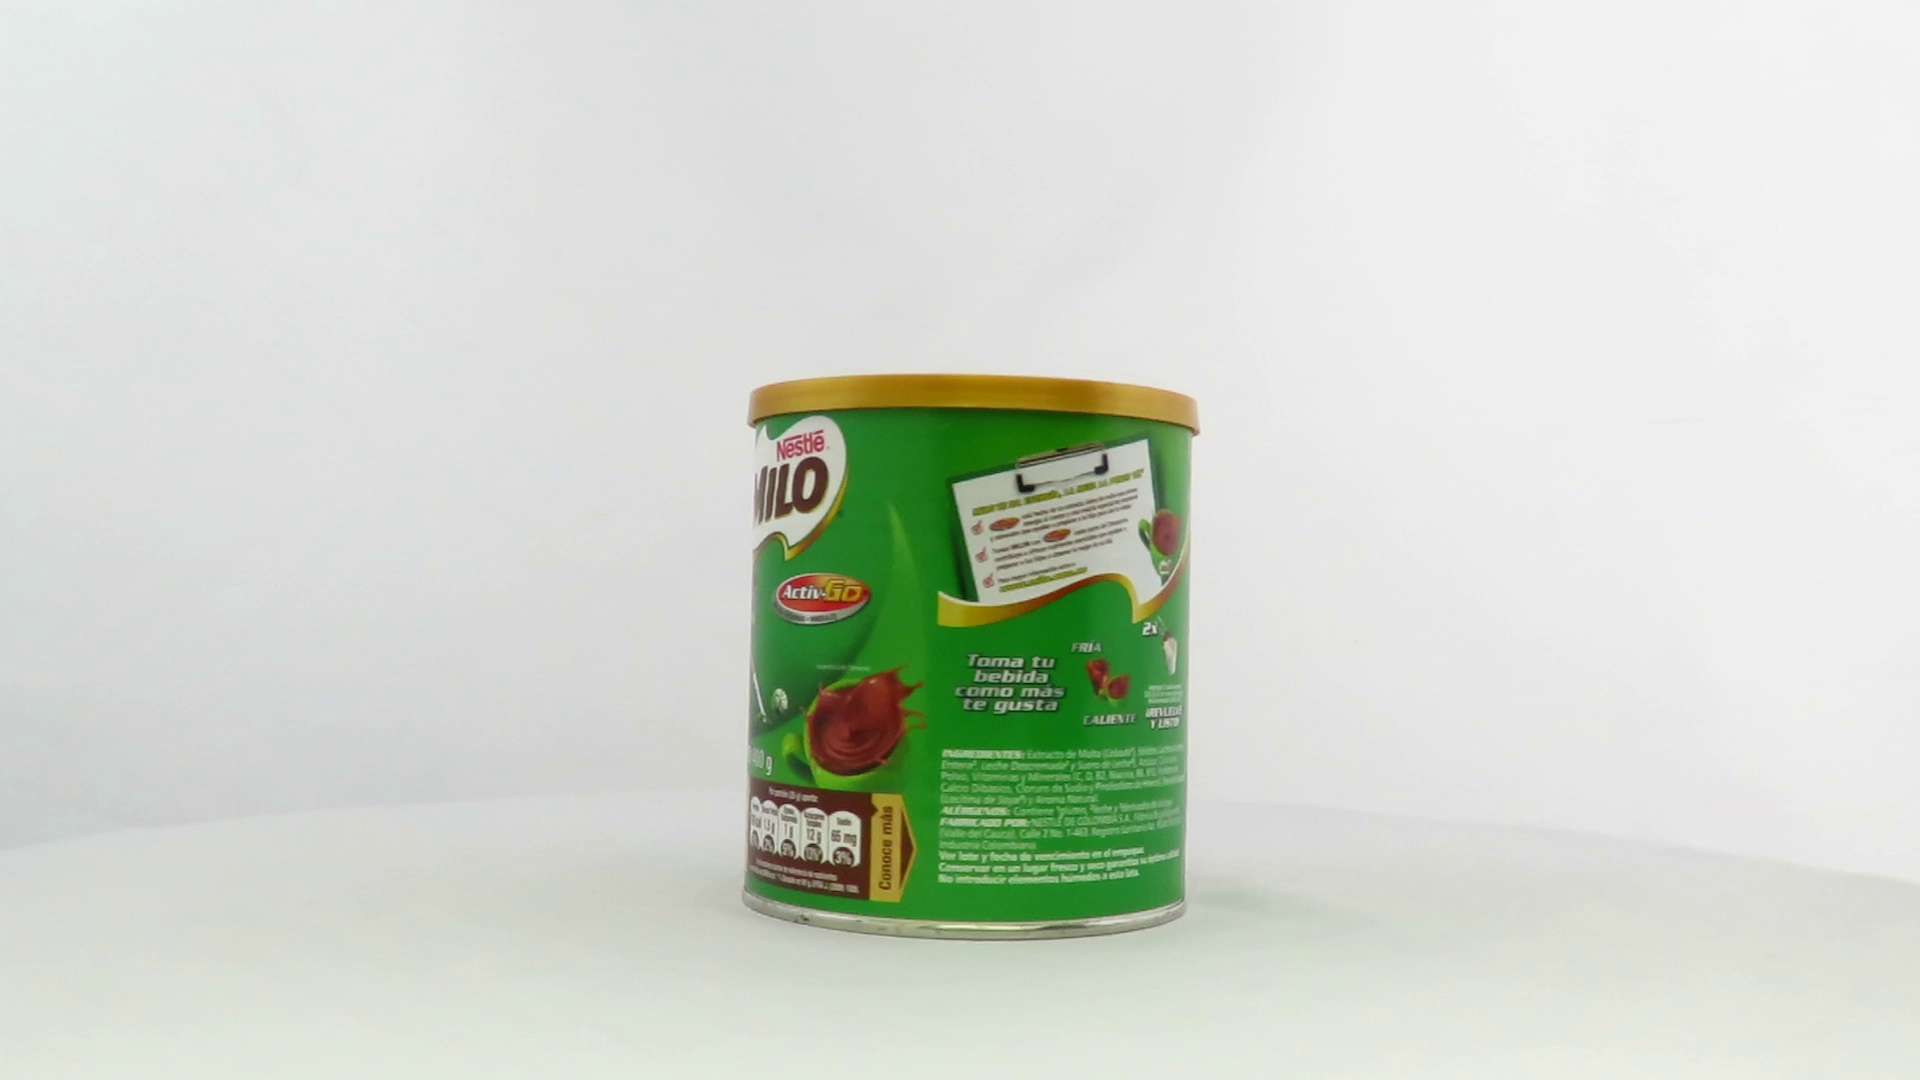COL0170203LAT40000: (736, 368, 1207, 948)
